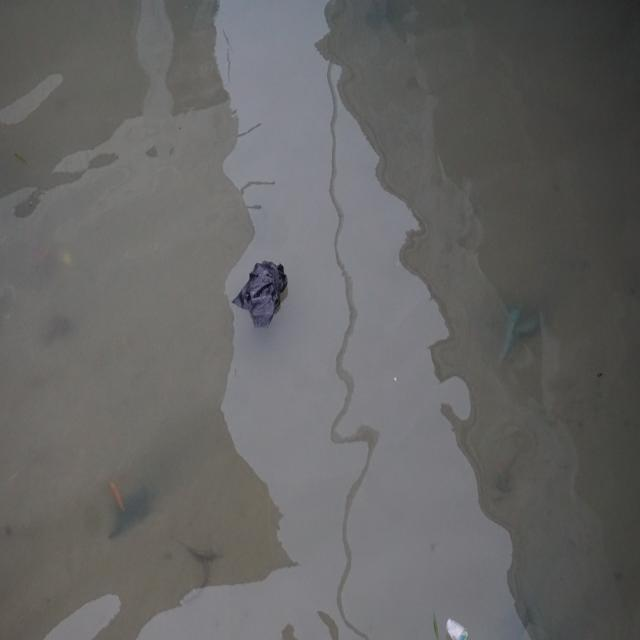Bungkus Minuman: (444, 614, 471, 640)
Kantong Plastik: (232, 253, 292, 332)
